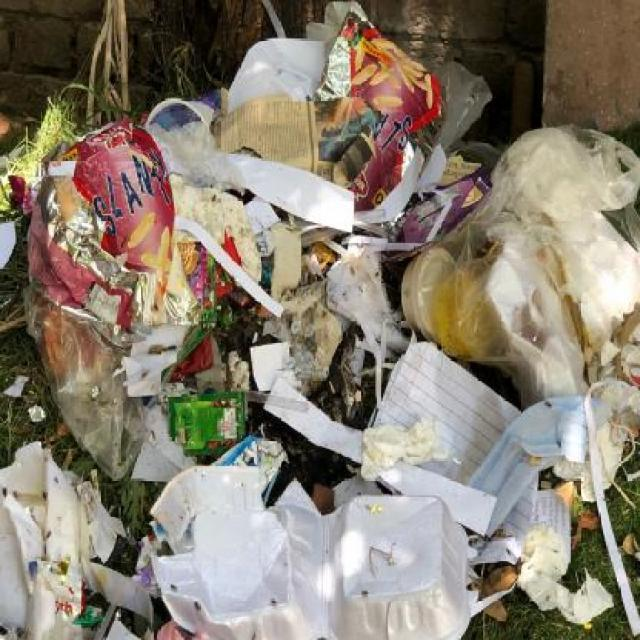garbage: (0, 131, 638, 640), (148, 17, 510, 130)
